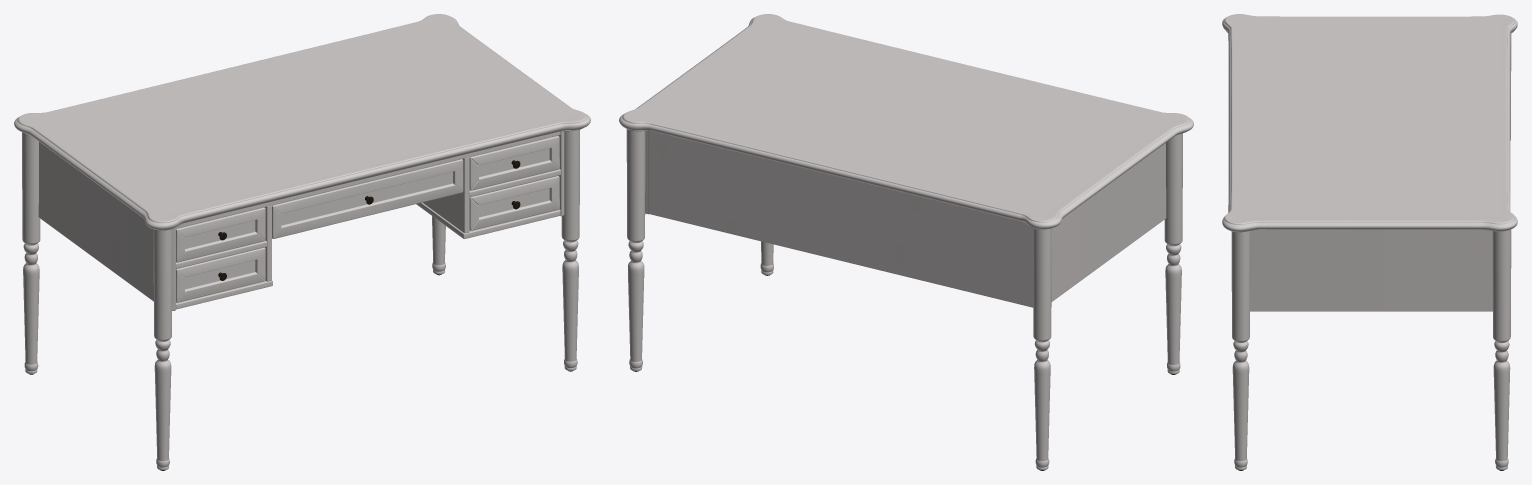
Rendered from abo-B07QJLWJMY.glb.
The picture shows the model from 3 angles, left to right: view 1: azimuth 30°, elevation 25°; view 2: azimuth 150°, elevation 25°; view 3: azimuth 270°, elevation 25°; orthographic projection.
Bounding box in the file's own units: 1.38 × 0.762 × 0.807.
1 material, 1 textured.
